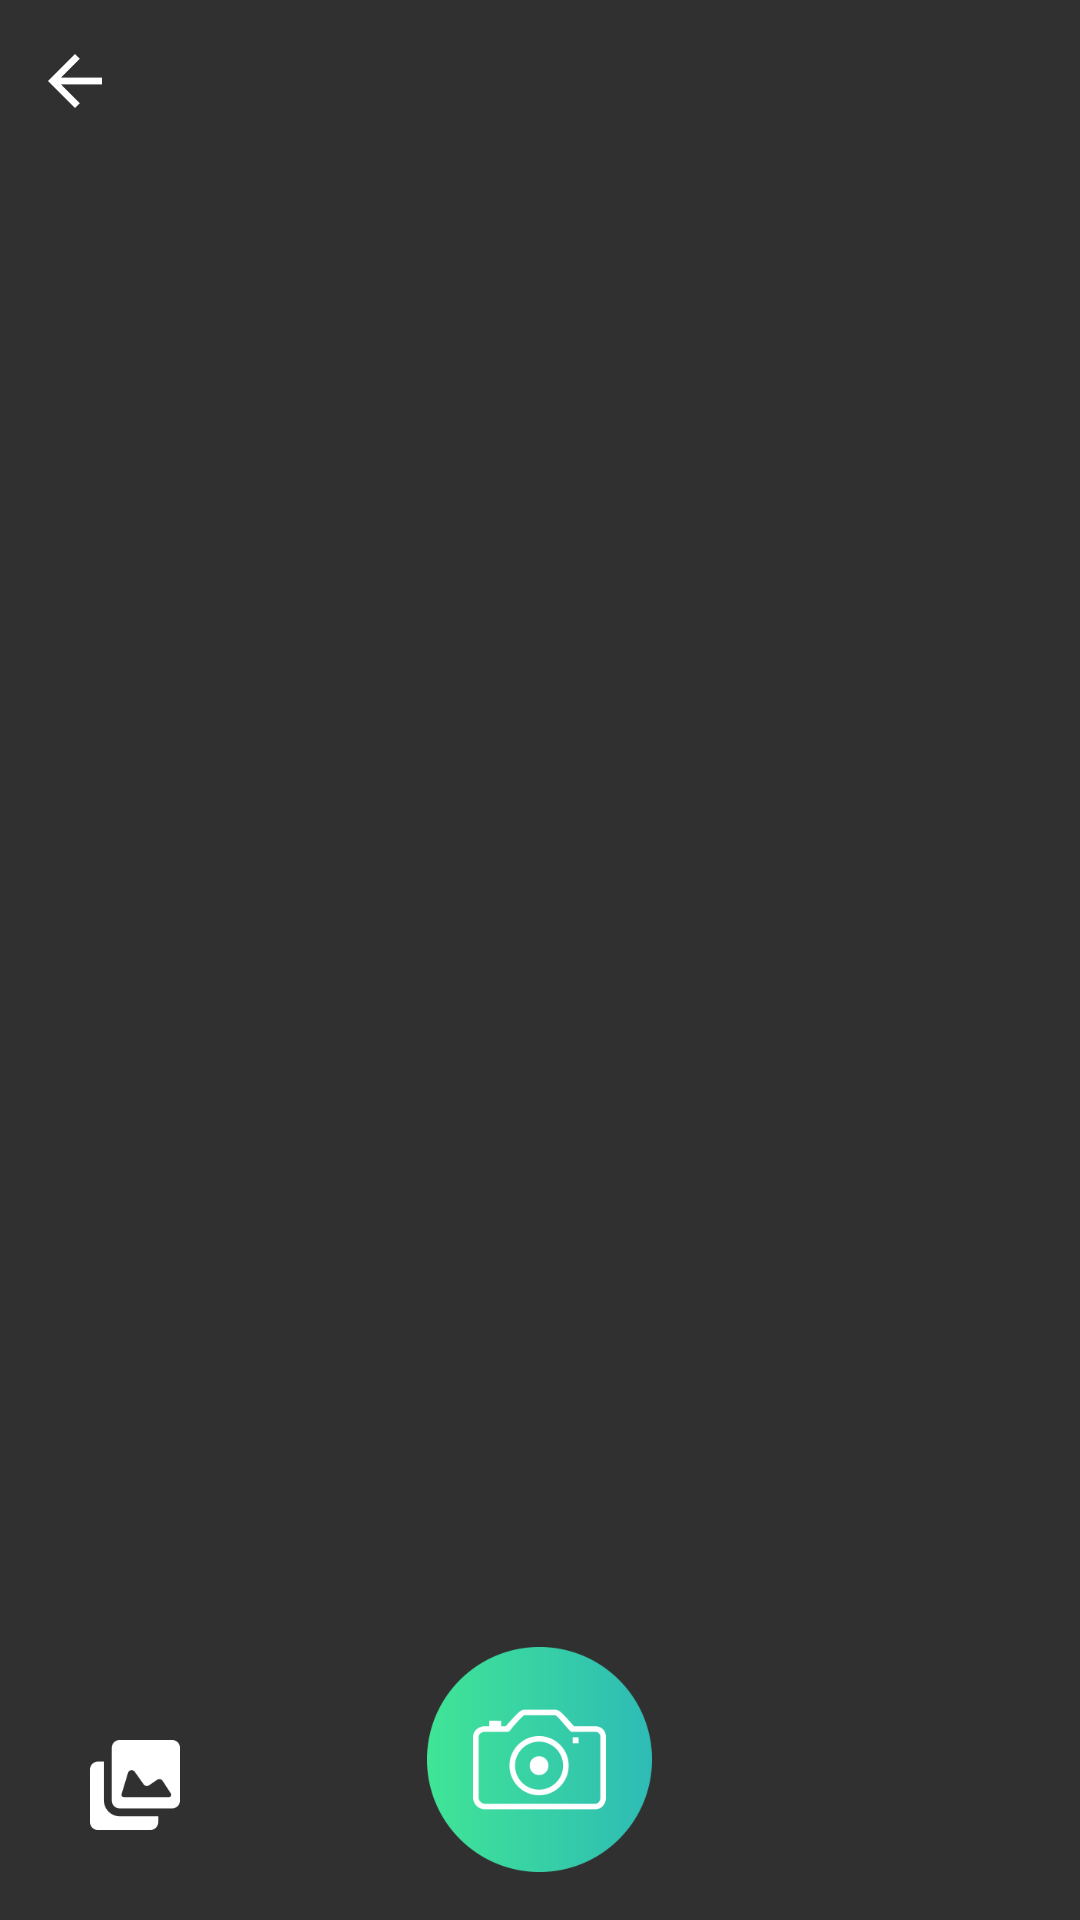

Point at icon controls on the screen. Image size 1080w x 1920h, points as [x,y].
arrow back kopia: [75,81]
camera: [539,1759]
gallery: [135,1785]
